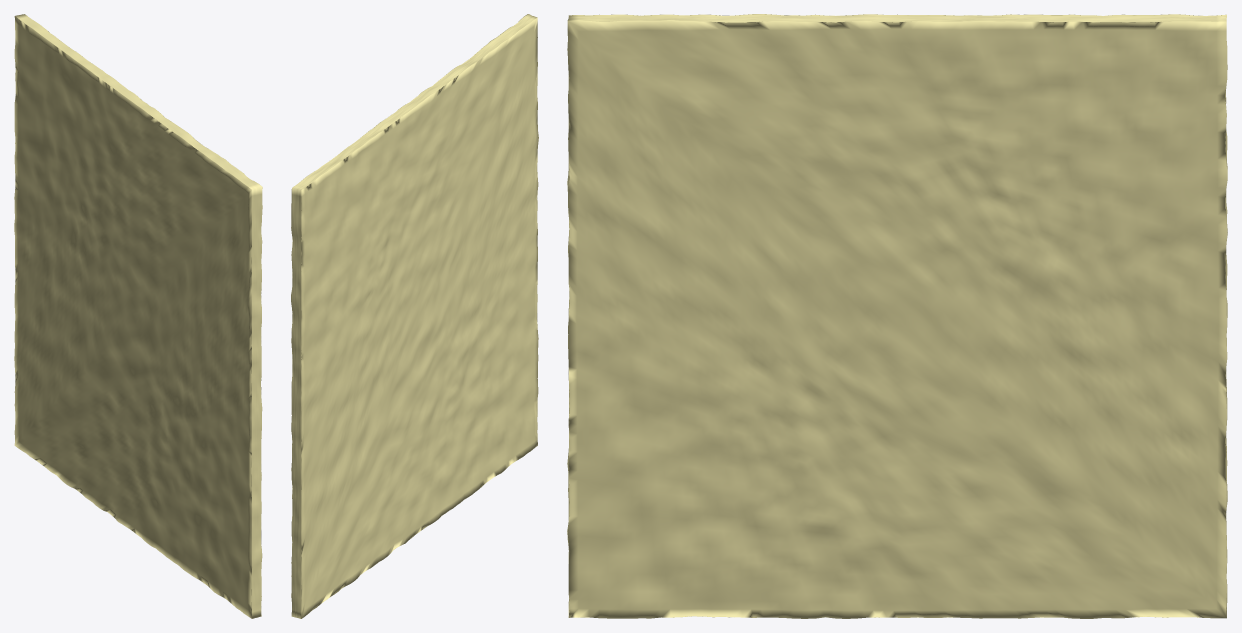
Rendered from Papel.glb.
The picture shows the model from 3 angles, left to right: view 1: azimuth 30°, elevation 25°; view 2: azimuth 150°, elevation 25°; view 3: azimuth 270°, elevation 25°; orthographic projection. The views are drawn at different scales.
Visible parts, largest first — view 1: Papel; view 2: Papel; view 3: Papel.
Part boxes in pixels (x1=…): Papel: x1=14, y1=14, x2=262, y2=618; Papel: x1=291, y1=14, x2=538, y2=618; Papel: x1=567, y1=14, x2=1227, y2=618.
Bounding box in the file's own units: 0.4721 × 15.55 × 15.54.
